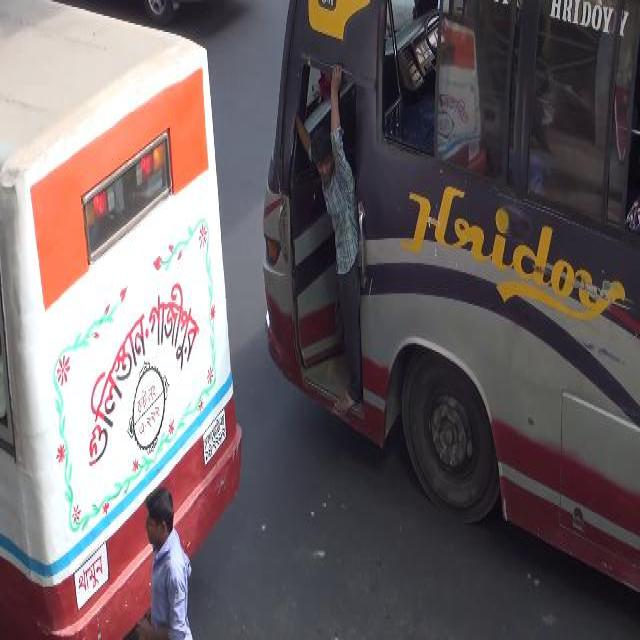bus: (261, 3, 639, 591), (0, 0, 245, 638)
